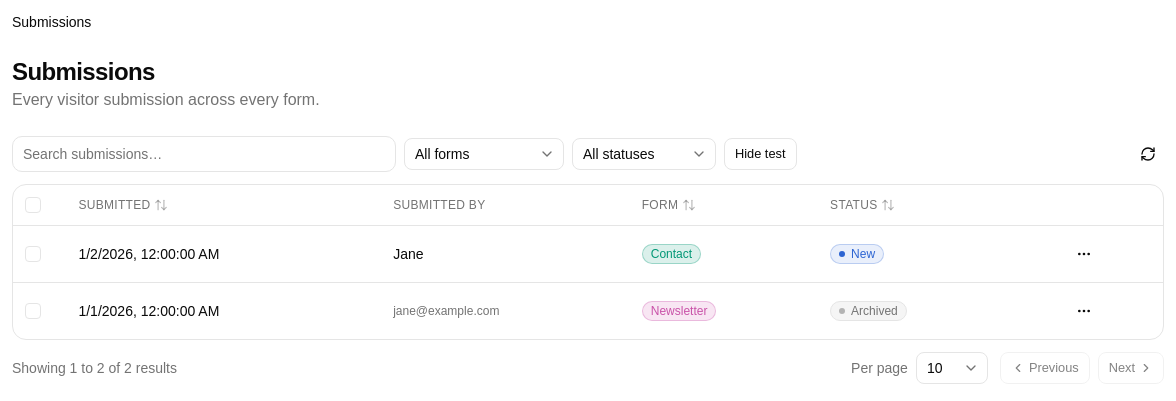
Scenario: AllSubmissionsPage › filters by status
The width and height of the screenshot is (1176, 401).
Check: the icon "Contact" is shown, box [642,244,701,264]
Click the dropdown named "Filter by status" at (644, 154), box [572,138,716,170]
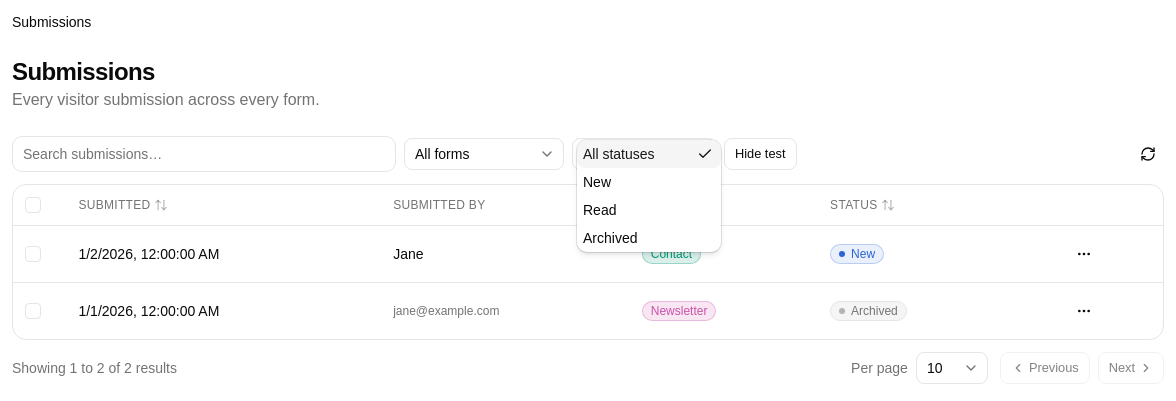
Click the option "Archived" at (610, 238), box [583,230,638,246]
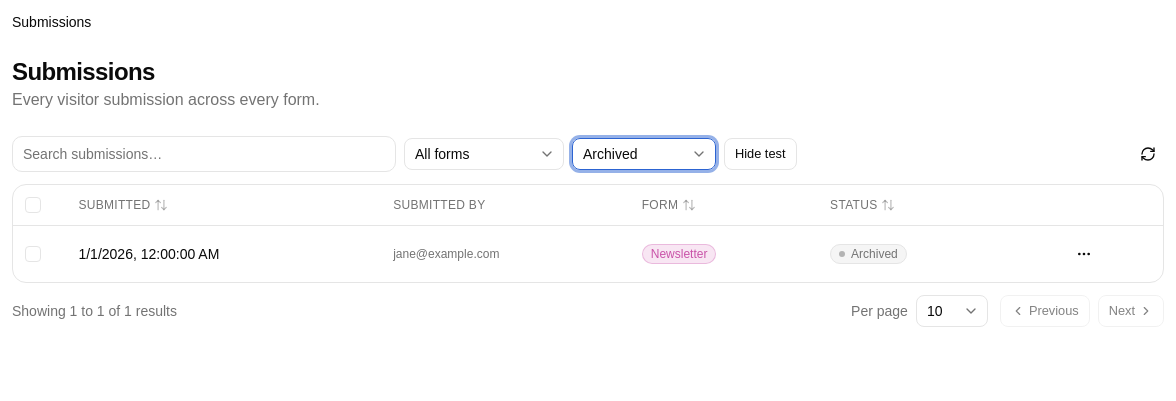
Check: the link "Contact" is gone
Check: the link "Newsletter" is shown, box [642,245,716,261]
